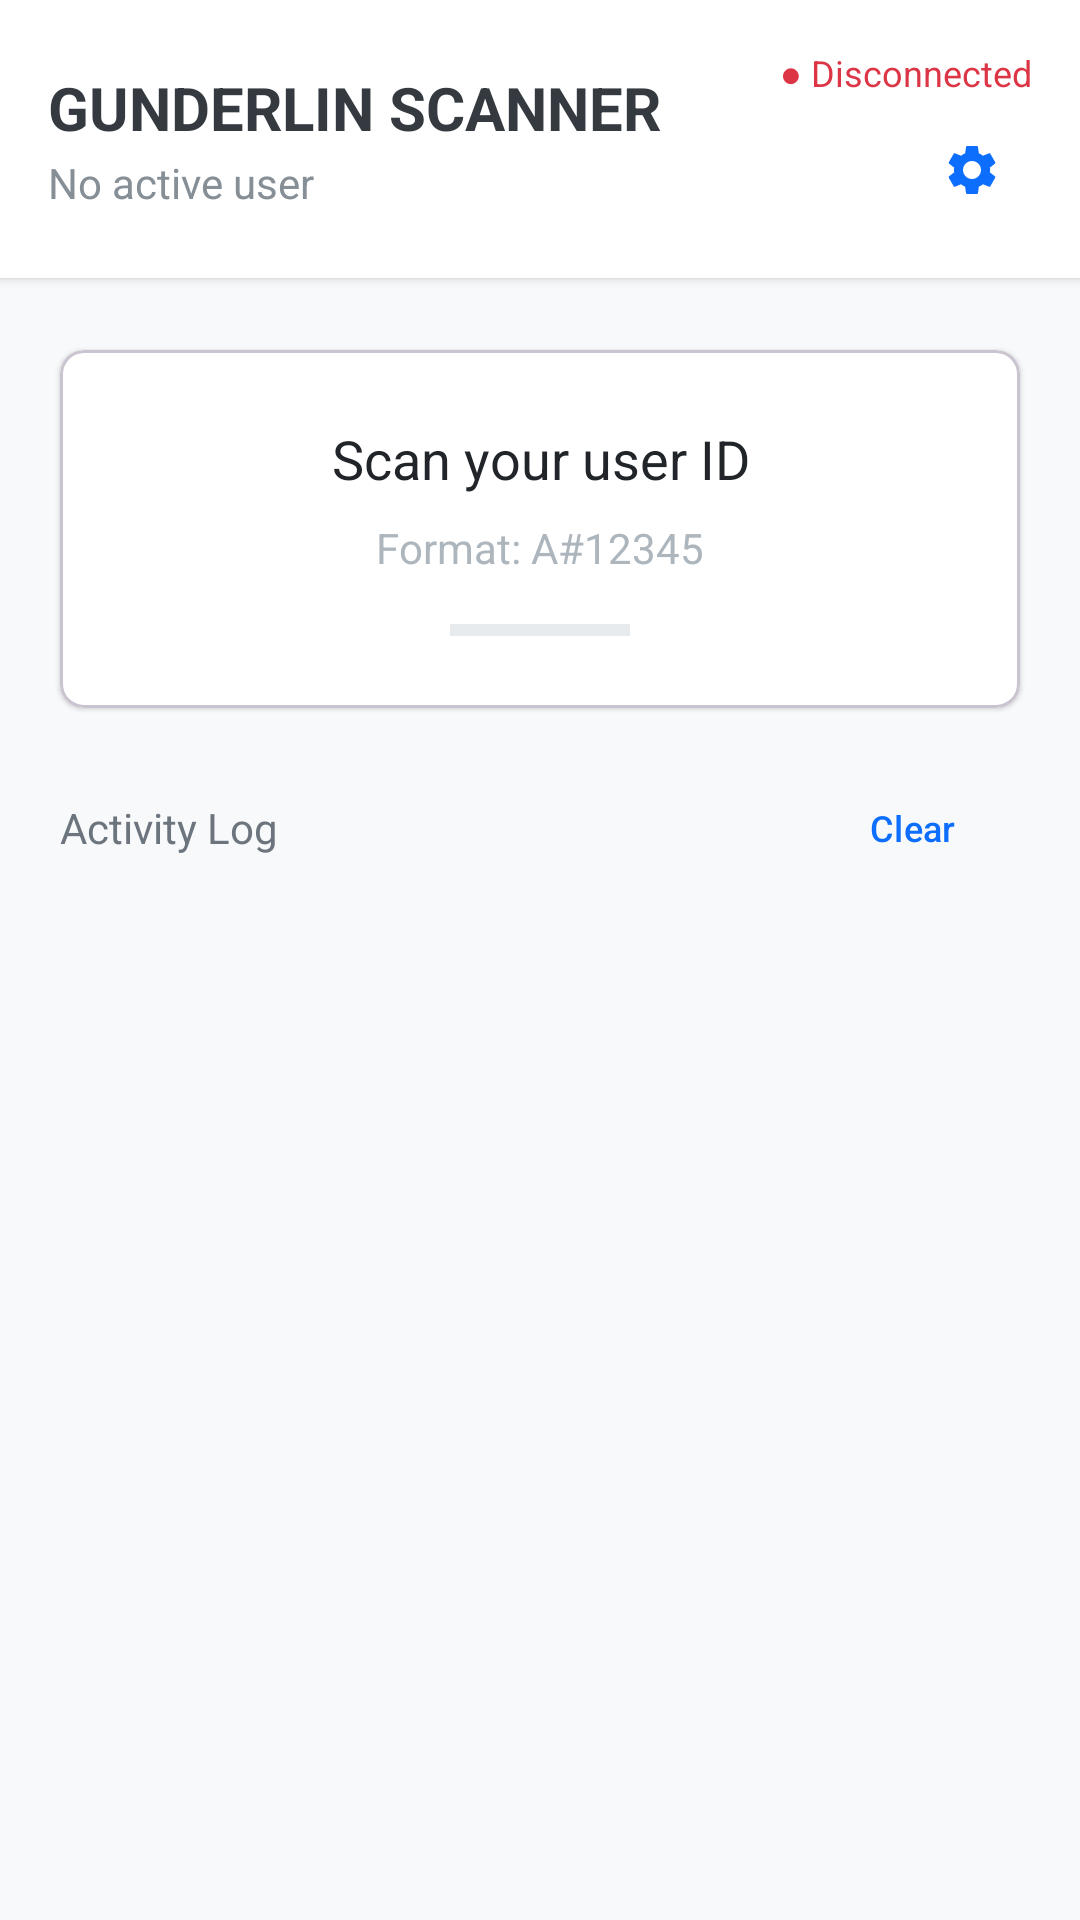

Icons on this 1080px×1920px Android screen, each with its box as (x1, y1, x2, y2):
Settings: (948, 146, 996, 194)
